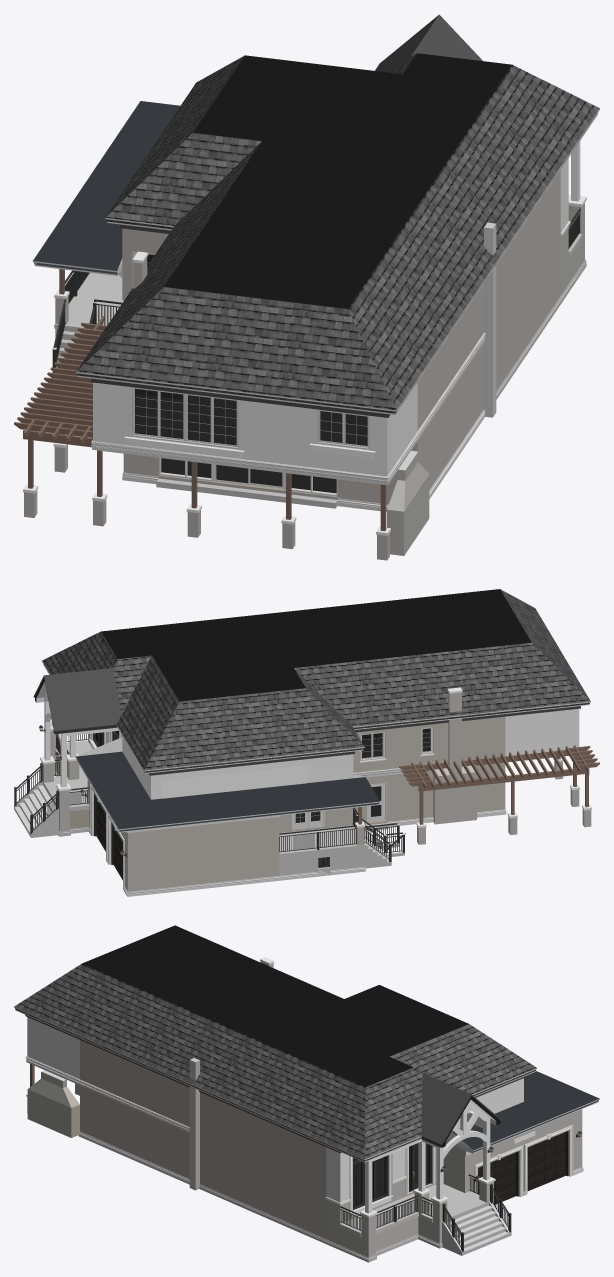
Rendered from aldo-1422-study.glb.
The picture shows the model from 3 angles, top to bottom: view 1: azimuth 30°, elevation 25°; view 2: azimuth 150°, elevation 25°; view 3: azimuth 270°, elevation 25°; orthographic projection. The views are drawn at different scales.
Parts seen in each view (by area): view 1: Aldo PRIVATE reference-finish browser candidate; view 2: Aldo PRIVATE reference-finish browser candidate; view 3: Aldo PRIVATE reference-finish browser candidate.
Boxes of the visible parts, <box> form: Aldo PRIVATE reference-finish browser candidate: <box>14,14,599,560</box>; Aldo PRIVATE reference-finish browser candidate: <box>14,589,599,896</box>; Aldo PRIVATE reference-finish browser candidate: <box>14,925,599,1262</box>.
Size of the model in its own units: 26.28 by 8 by 28.28.
24 materials, 12 textured.
